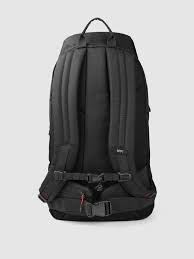backpack: (37, 17, 156, 221)
